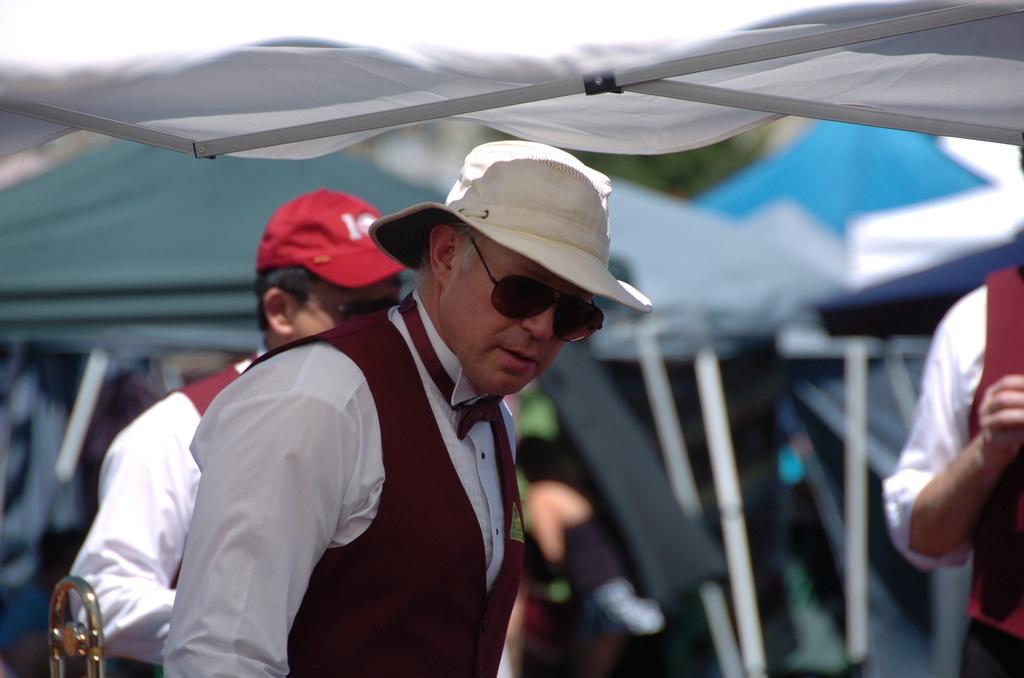Hat: (400, 144, 622, 316), (252, 178, 404, 290)
